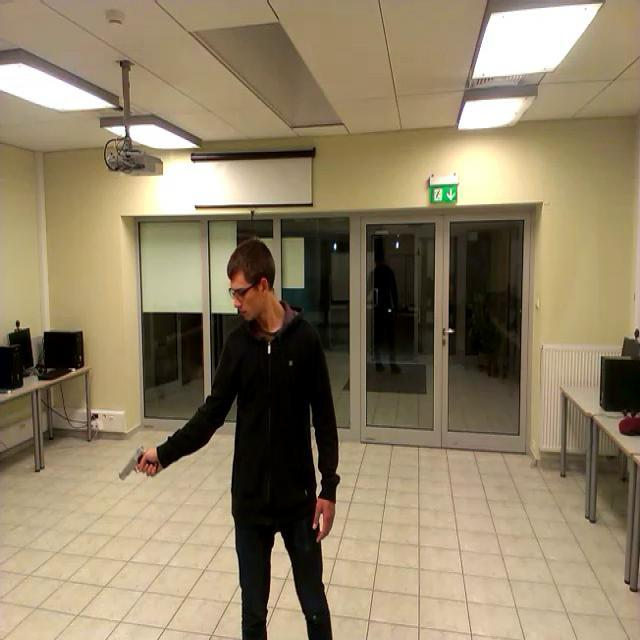Gun: (118, 444, 158, 480)
